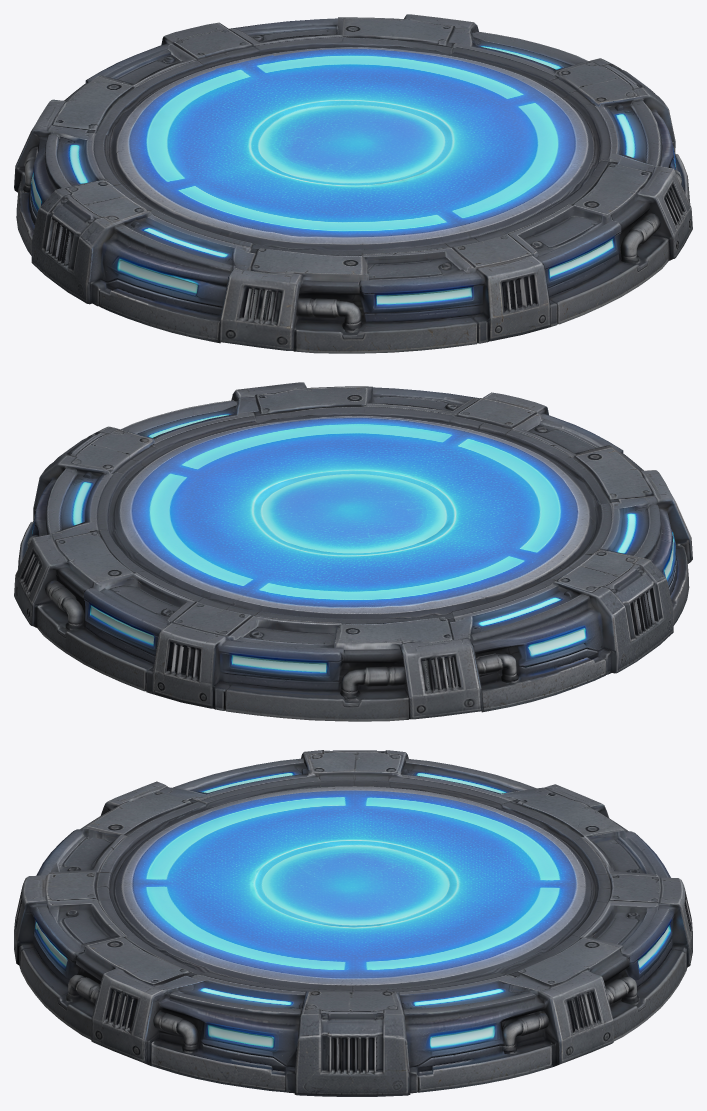
The model's file is futuristic_platform_3d_model.fbx.
The picture shows the model from 3 angles, top to bottom: view 1: azimuth 30°, elevation 25°; view 2: azimuth 150°, elevation 25°; view 3: azimuth 270°, elevation 25°; orthographic projection.
Visible parts, largest first — view 1: tripo_53c6e611_46b8_441d_b3fb_a222c91a60a7; view 2: tripo_53c6e611_46b8_441d_b3fb_a222c91a60a7; view 3: tripo_53c6e611_46b8_441d_b3fb_a222c91a60a7.
Part boxes in pixels (x1=…): tripo_53c6e611_46b8_441d_b3fb_a222c91a60a7: x1=14, y1=14, x2=692, y2=353; tripo_53c6e611_46b8_441d_b3fb_a222c91a60a7: x1=14, y1=382, x2=692, y2=721; tripo_53c6e611_46b8_441d_b3fb_a222c91a60a7: x1=14, y1=750, x2=692, y2=1096.
Size of the model in its own units: 0.9995 by 0.1157 by 0.9956.
1 material, 1 textured.
